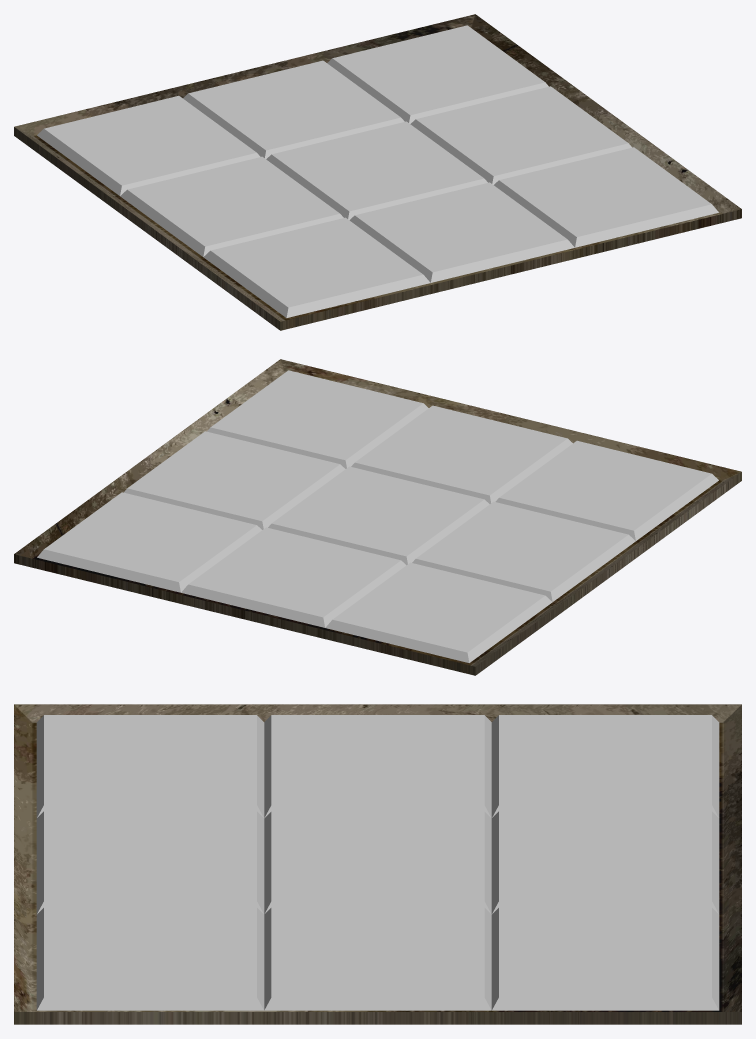
3 views of the same model, one above another, from view 1: azimuth 30°, elevation 25°; view 2: azimuth 150°, elevation 25°; view 3: azimuth 270°, elevation 25° (orthographic). The views are drawn at different scales.
Parts seen in each view (by area): view 1: board, 6, 7, 8, 3, 0, 5, 4, 2, 1; view 2: board, 0, 1, 2, 3, 6, 5, 4, 8, 7; view 3: board, 2, 8, 5, 1, 7, 0, 6, 3, 4.
Part boxes in pixels (x1,y1,x2,y2): board: (14,14,741,330); 6: (203,217,430,317); 7: (349,182,574,282); 8: (494,147,718,247); 3: (120,156,343,256); 0: (37,95,260,195); 5: (410,86,631,184); 4: (266,121,487,220); 2: (327,25,548,123); 1: (183,60,404,158); board: (14,359,741,675); 0: (325,562,552,662); 1: (181,527,406,627); 2: (37,492,261,592); 3: (412,501,635,601); 6: (495,440,718,540); 5: (124,431,345,529); 4: (268,466,489,565); 8: (207,370,428,468); 7: (351,405,572,503); board: (14,704,741,1024); 2: (491,907,719,1010); 8: (36,907,264,1010); 5: (264,907,491,1010); 1: (491,811,719,914); 7: (36,811,264,914); 0: (491,715,719,817); 6: (36,715,264,817); 3: (264,715,491,817); 4: (264,811,491,913).
Size of the model in its own units: 160 by 3.5 by 160.
